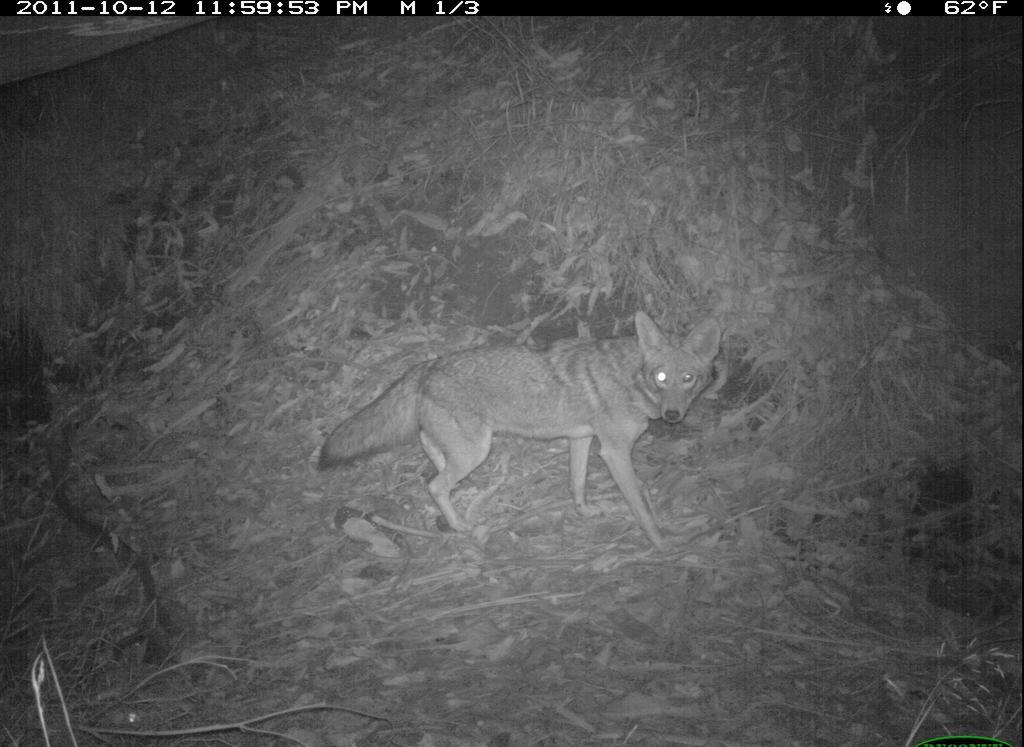coyote: (309, 303, 721, 559)
